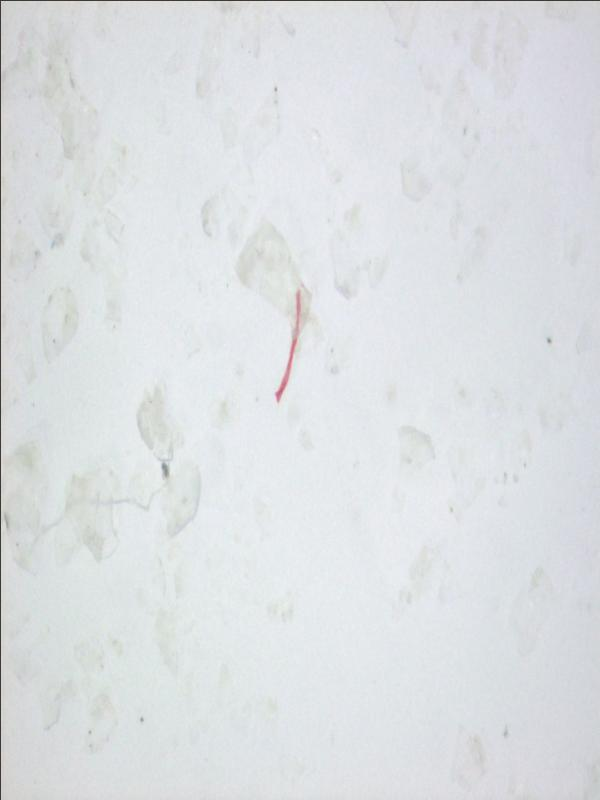microplastic: (233, 215, 313, 406)
